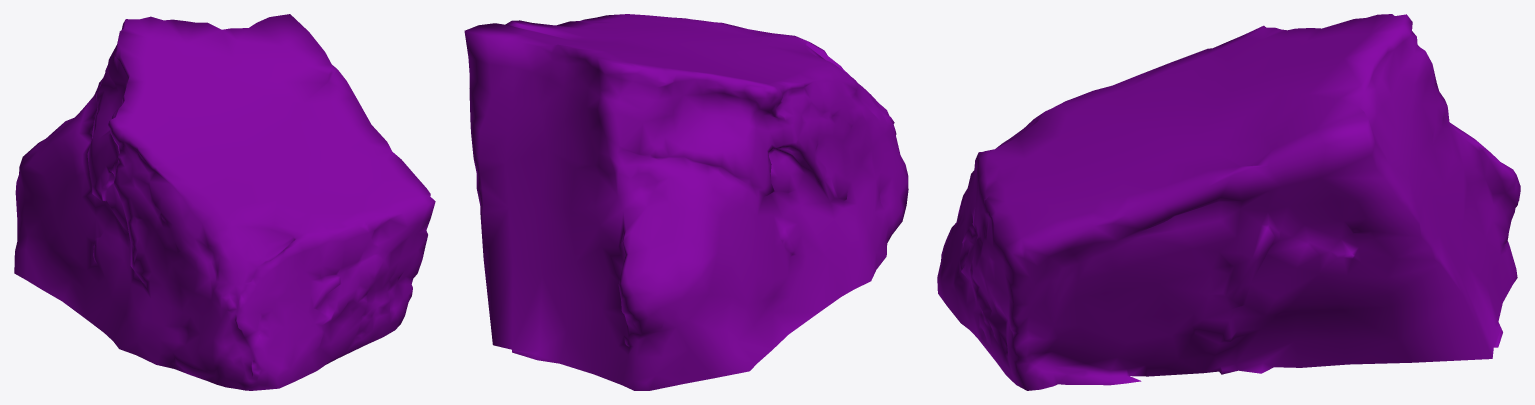
File: MSH_Rocks_Boulder_07.FBX
3 renders of one model, left to right at view 1: azimuth 30°, elevation 25°; view 2: azimuth 150°, elevation 25°; view 3: azimuth 270°, elevation 25°, orthographic. The views are drawn at different scales.
Visible parts, largest first — view 1: MESH_LOD0; view 2: MESH_LOD0; view 3: MESH_LOD0.
Boxes of the visible parts, box(x1,y1,x2,y2) form: MESH_LOD0: box(14, 14, 435, 390); MESH_LOD0: box(464, 14, 908, 390); MESH_LOD0: box(937, 14, 1520, 390).
Size of what is drawn, in the model's own units: 63.18 by 52.23 by 92.74.
